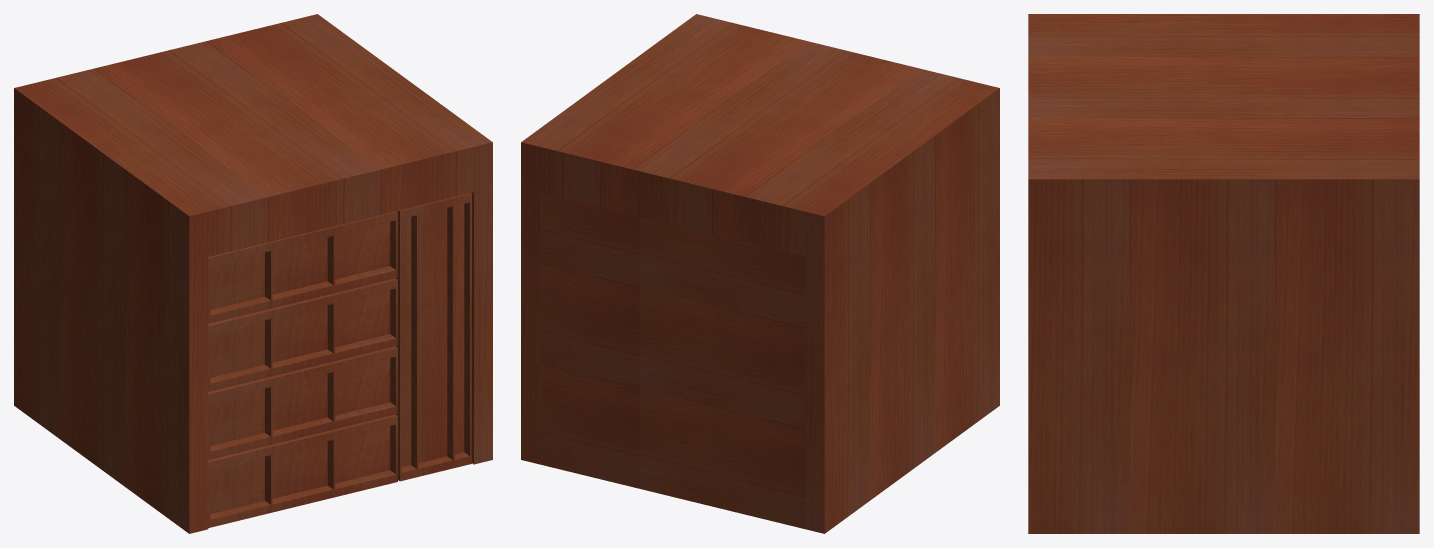
Rendered from sh-lp-como-ciliegio.glb.
3 renders of one model, left to right at view 1: azimuth 30°, elevation 25°; view 2: azimuth 150°, elevation 25°; view 3: azimuth 270°, elevation 25°, orthographic. The views are drawn at different scales.
Parts seen in each view (by area): view 1: Line41_1; view 2: Line41_1; view 3: Line41_1.
Boxes of the visible parts, <box> form: Line41_1: <box>14,14,492,533</box>; Line41_1: <box>521,14,999,533</box>; Line41_1: <box>1028,14,1419,533</box>.
Size of the model in its own units: 1 by 1 by 1.
Materials: 1 (1 with a texture image).
